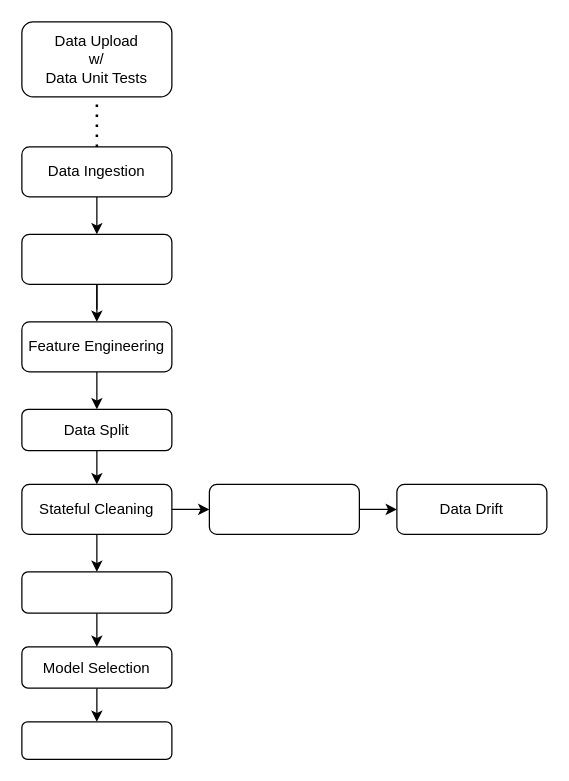
Some shapes in this 569 by 781 pixel diagram are drawn without their labels. Each missing label, with the centre of its shape:
Data Concatenation: [283,508]
Explainability: [96,740]
Feature Selection: [96,592]
Stateless Cleaning: [96,258]
